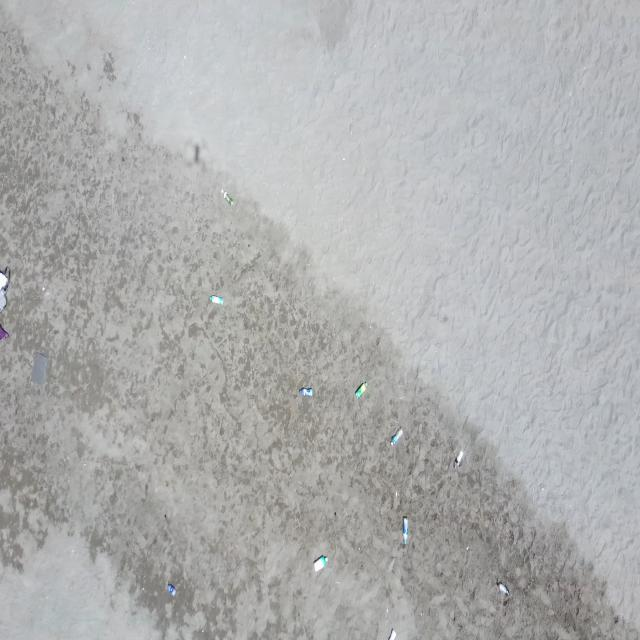plastic-bottle: (452, 448, 465, 470), (313, 555, 329, 572), (390, 426, 403, 446), (208, 292, 224, 307), (354, 381, 368, 398), (401, 516, 409, 544), (222, 188, 234, 206), (498, 582, 510, 598), (298, 386, 314, 397), (167, 583, 177, 599), (388, 628, 398, 640)
